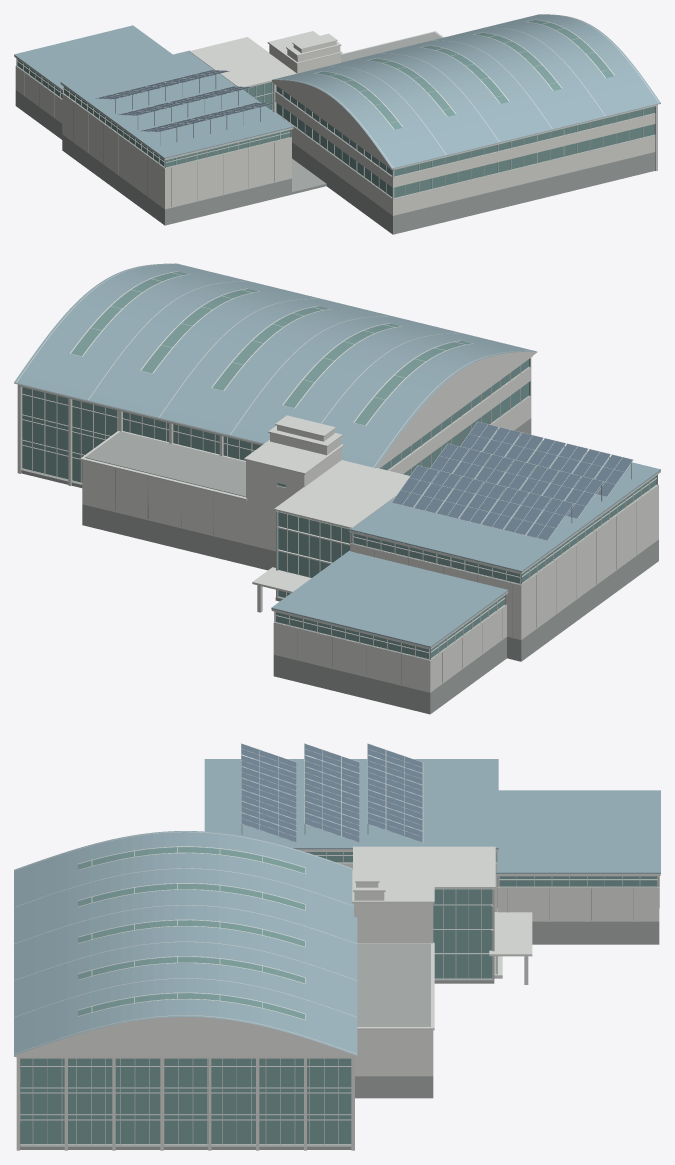
3 renders of one model, top to bottom at view 1: azimuth 30°, elevation 25°; view 2: azimuth 150°, elevation 25°; view 3: azimuth 270°, elevation 25°, orthographic. The views are drawn at different scales.
Visible parts, largest first — view 1: sports-center__arenaVault, sports-center__whitePanel, sports-center__base, sports-center__poolHighRoof, sports-center__glass, sports-center__slab, sports-center__poolLowRoof, sports-center__frame, sports-center__roofGlass, sports-center__solarCells, sports-center__reveal, sports-center__roofSeam (+4 smaller); view 2: sports-center__arenaVault, sports-center__whitePanel, sports-center__glass, sports-center__solarCells, sports-center__slab, sports-center__base, sports-center__poolLowRoof, sports-center__poolHighRoof, sports-center__frame, sports-center__roofGlass, sports-center__serviceRoof, sports-center__roofSeam (+2 smaller); view 3: sports-center__arenaVault, sports-center__glass, sports-center__whitePanel, sports-center__slab, sports-center__poolHighRoof, sports-center__poolLowRoof, sports-center__solarCells, sports-center__frame, sports-center__base, sports-center__roofGlass, sports-center__serviceRoof, sports-center__roofSeam (+2 smaller).
Boxes of the visible parts, x1,y1,x2,y2 form: sports-center__arenaVault: (272, 14, 660, 168); sports-center__whitePanel: (15, 45, 660, 215); sports-center__base: (15, 73, 655, 234); sports-center__poolHighRoof: (60, 50, 293, 158); sports-center__glass: (17, 59, 654, 197); sports-center__slab: (14, 19, 657, 170); sports-center__poolLowRoof: (14, 25, 172, 90); sports-center__frame: (16, 19, 654, 198); sports-center__roofGlass: (316, 20, 613, 129); sports-center__solarCells: (95, 70, 273, 131); sports-center__reveal: (16, 58, 653, 198); sports-center__roofSeam: (279, 14, 658, 167); sports-center__arenaVault: (14, 263, 536, 468); sports-center__whitePanel: (14, 351, 658, 692); sports-center__glass: (22, 358, 656, 659); sports-center__solarCells: (392, 422, 632, 540); sports-center__slab: (17, 271, 660, 649); sports-center__base: (21, 418, 658, 714); sports-center__poolLowRoof: (271, 550, 508, 647); sports-center__poolHighRoof: (349, 430, 660, 572); sports-center__frame: (21, 272, 657, 659); sports-center__roofGlass: (71, 272, 471, 425); sports-center__serviceRoof: (85, 431, 245, 496); sports-center__roofSeam: (16, 263, 530, 467); sports-center__arenaVault: (14, 831, 357, 1055); sports-center__glass: (20, 852, 657, 1144); sports-center__whitePanel: (14, 862, 659, 1122); sports-center__slab: (16, 846, 660, 1150); sports-center__poolHighRoof: (204, 759, 498, 849); sports-center__poolLowRoof: (496, 790, 660, 873); sports-center__solarCells: (241, 743, 422, 842); sports-center__frame: (20, 743, 658, 1145); sports-center__base: (20, 876, 659, 1149); sports-center__roofGlass: (78, 847, 304, 1019); sports-center__serviceRoof: (357, 943, 430, 1026); sports-center__roofSeam: (14, 831, 357, 1054).
Size of the model in its own units: 83.33 by 17.93 by 76.88.
